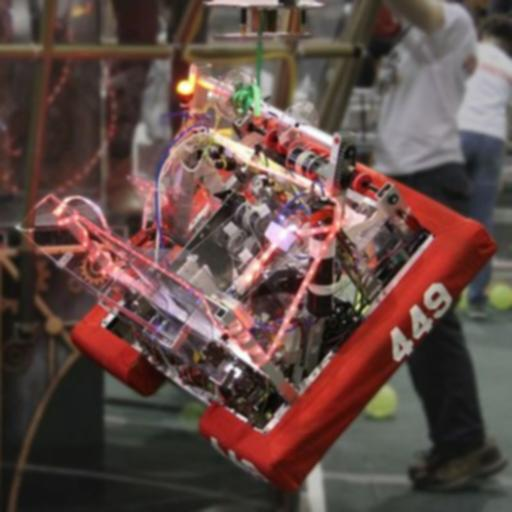robot: (15, 62, 499, 490)
